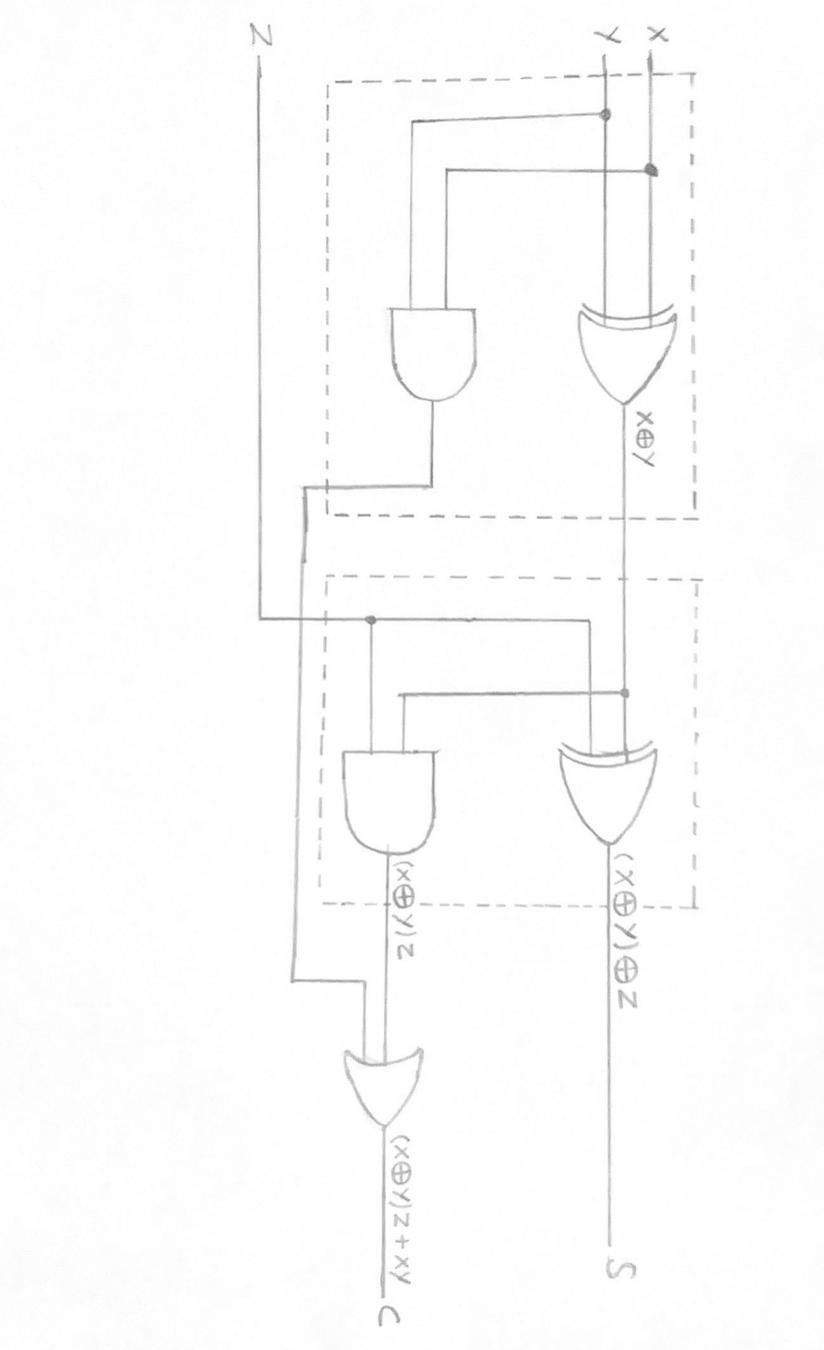AND: (325, 738, 450, 866), (375, 293, 493, 417)
OR: (315, 1042, 441, 1138)
XOR: (540, 728, 679, 854), (562, 288, 688, 409)
